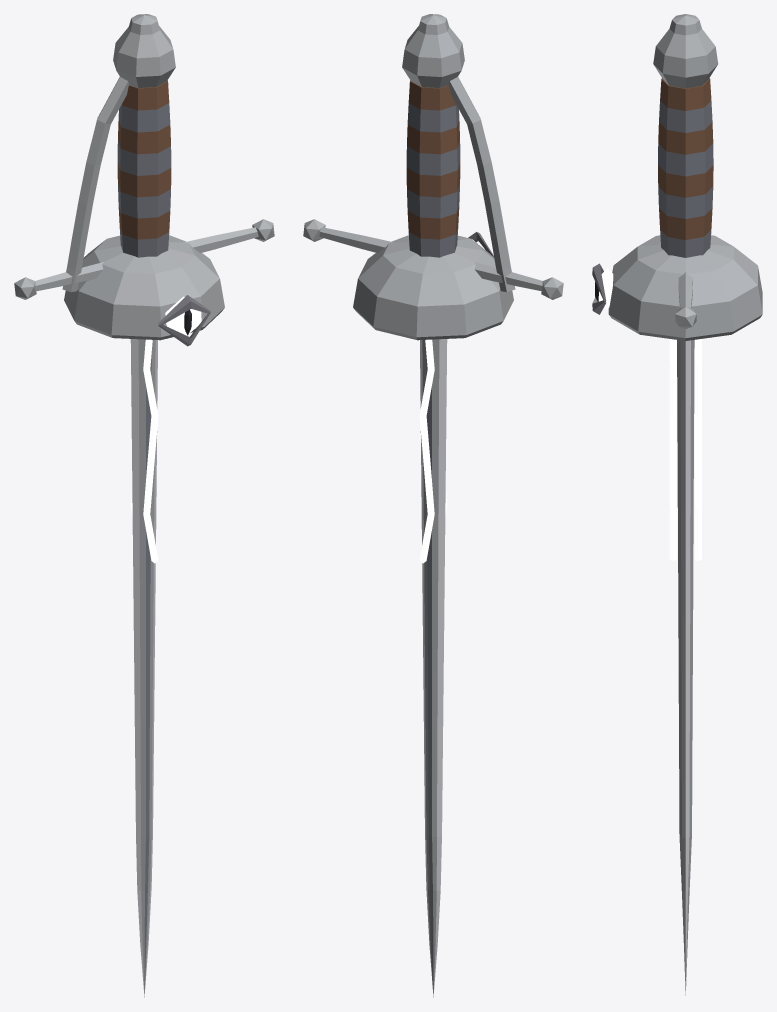
File: blade-duelling.glb
3 renders of one model, left to right at view 1: azimuth 30°, elevation 25°; view 2: azimuth 150°, elevation 25°; view 3: azimuth 270°, elevation 25°, orthographic.
Visible parts, largest first — view 1: blade-duelling, pulse_vein, blink_eye; view 2: blade-duelling, pulse_vein; view 3: blade-duelling, pulse_vein, blink_eye.
Boxes of the visible parts, x1=… form: blade-duelling: x1=14, y1=14, x2=274, y2=997; pulse_vein: x1=130, y1=339, x2=158, y2=563; blink_eye: x1=158, y1=295, x2=210, y2=346; blade-duelling: x1=303, y1=14, x2=563, y2=997; pulse_vein: x1=419, y1=339, x2=447, y2=563; blade-duelling: x1=608, y1=14, x2=762, y2=995; pulse_vein: x1=669, y1=339, x2=701, y2=560; blink_eye: x1=592, y1=263, x2=613, y2=314.
Size of the model in its own units: 0.329 by 1.2 by 0.1887.
